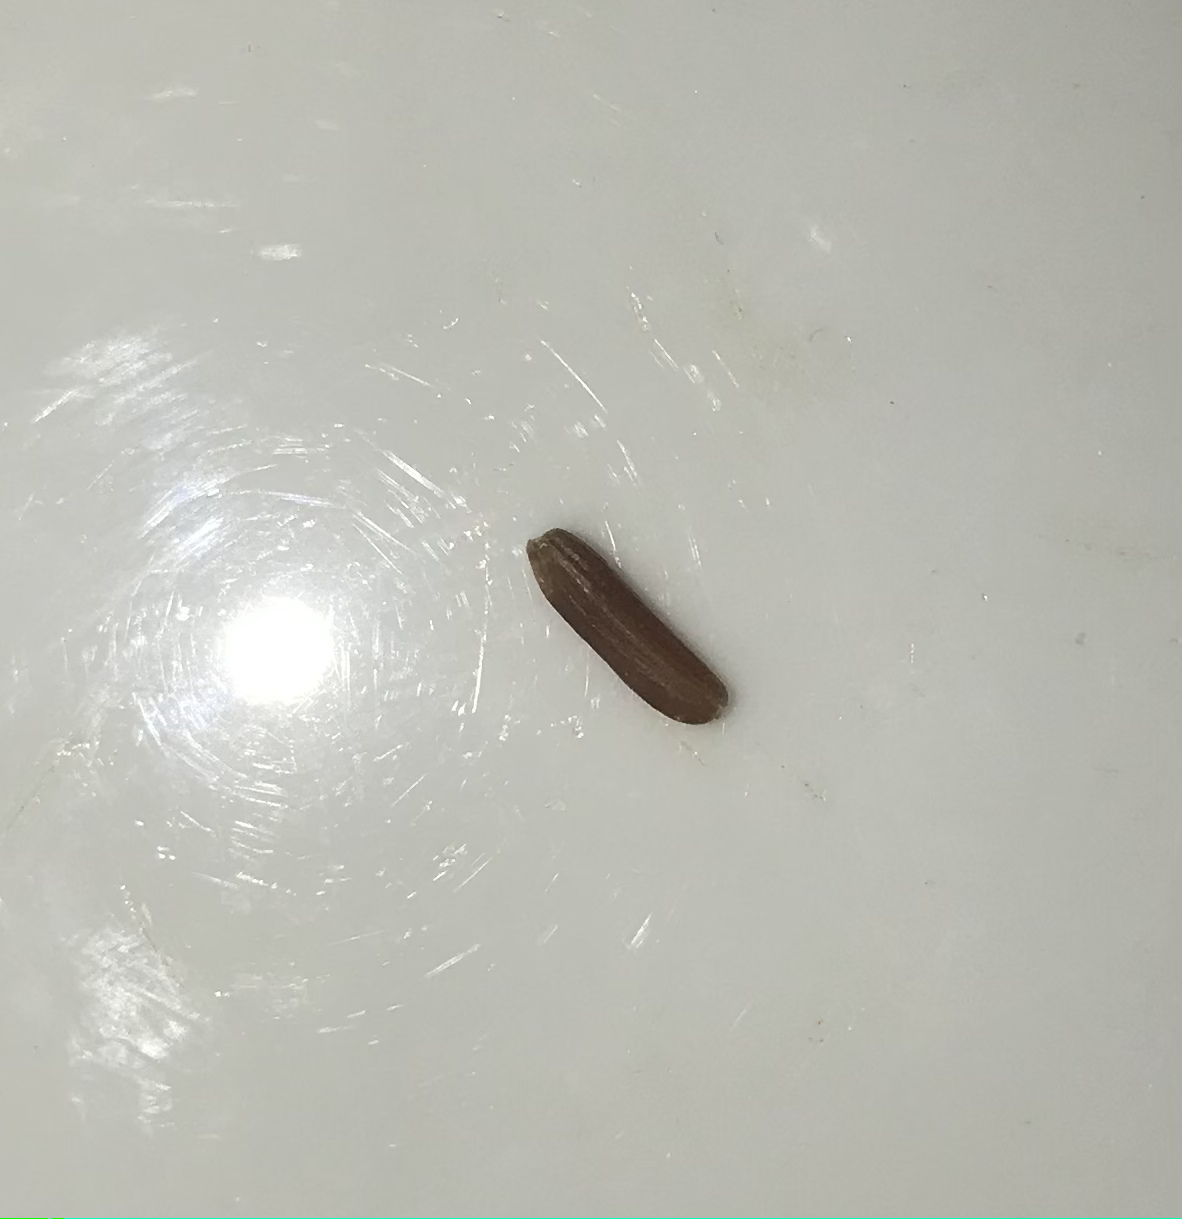Gao Lut Do: (495, 516, 749, 743)
